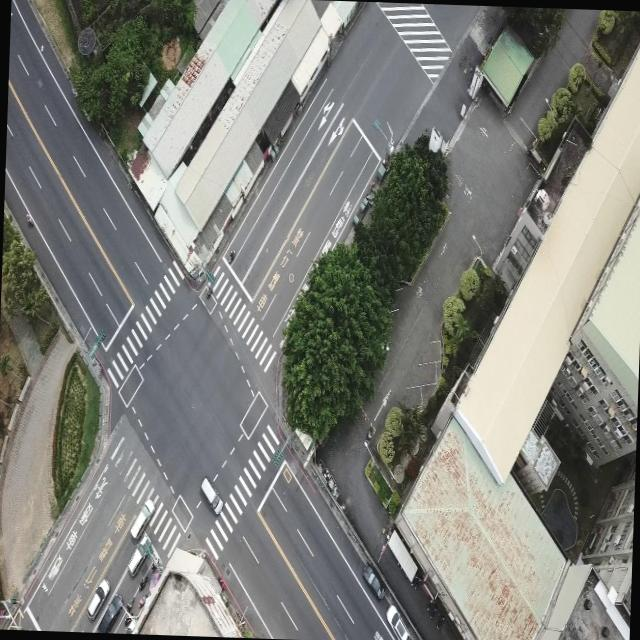car: (95, 590, 129, 634), (128, 496, 156, 540), (198, 475, 225, 515), (86, 578, 110, 620), (384, 602, 408, 640), (125, 540, 148, 578), (362, 562, 384, 600)
